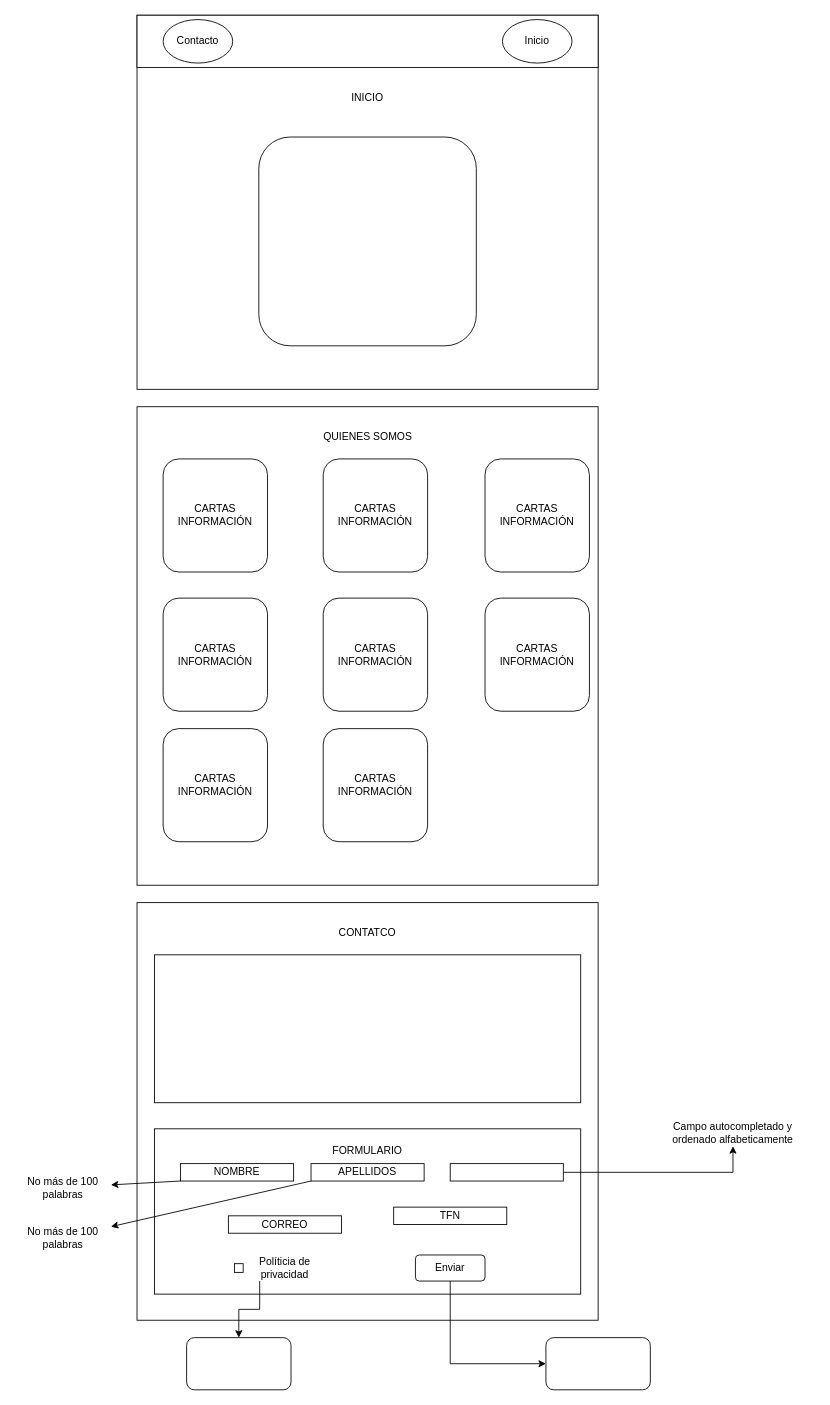
Image size: 830x1405. Some labels were removed from this diagram. Here are the shapes that lost their labels. From the top down, the centre of each, then its label:
point 367,241: LOGO
point 367,1028: BANNER INFO Y UNA IMAGEN
point 506,1172: EMPRESA
point 238,1363: Enlace que lleva a los datos de política de privacidad
point 597,1363: Al darle enviar aparece captcha
